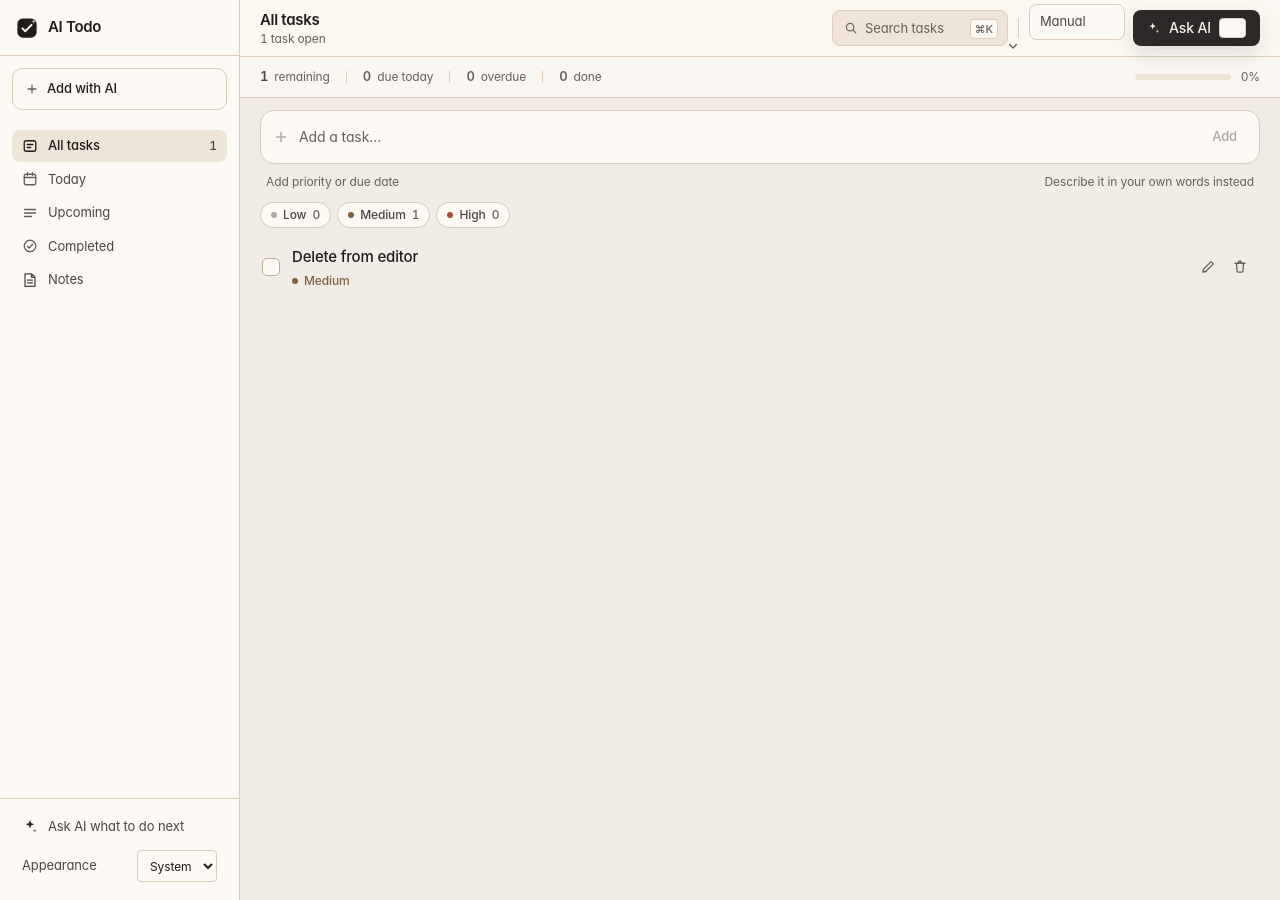
Test case: delete a task › also offers deletion from inside the editor
Click the button named "Open details for \"Delete from editor\"" at (355, 256), box [292,246,1180,267]
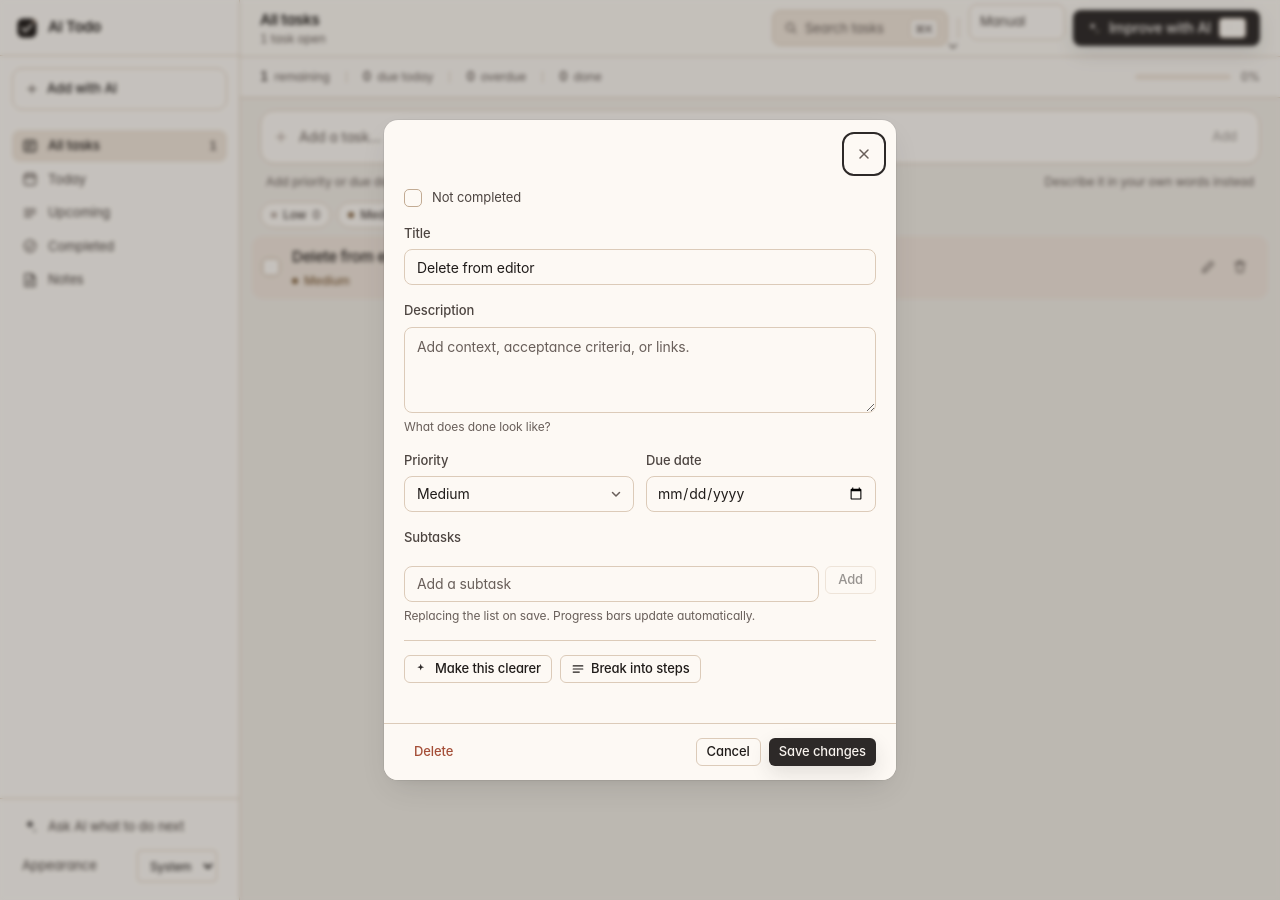
Click the button "Delete" at (434, 752), box [404,738,463,766]
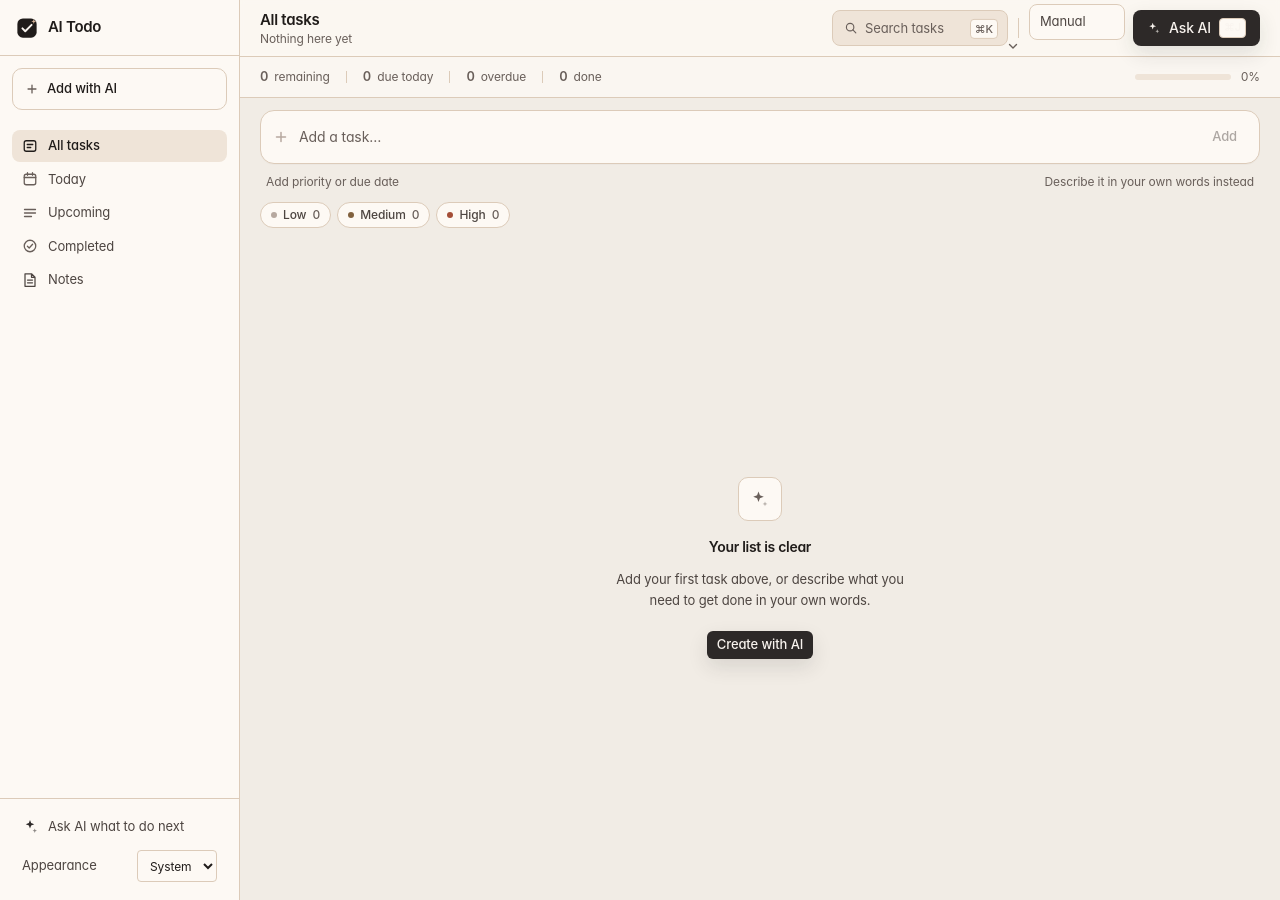
Expected: the dialog is gone
Expected: the button "Delete from editor" is gone
